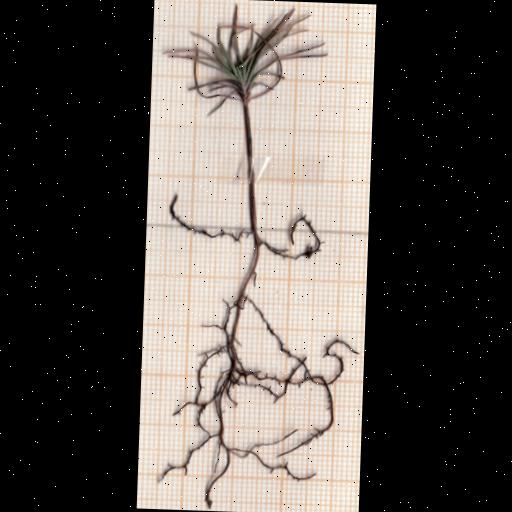flowerCedr: (164, 5, 326, 113)
rootCedr: (159, 216, 350, 507)
stemCedr: (242, 102, 258, 237)
